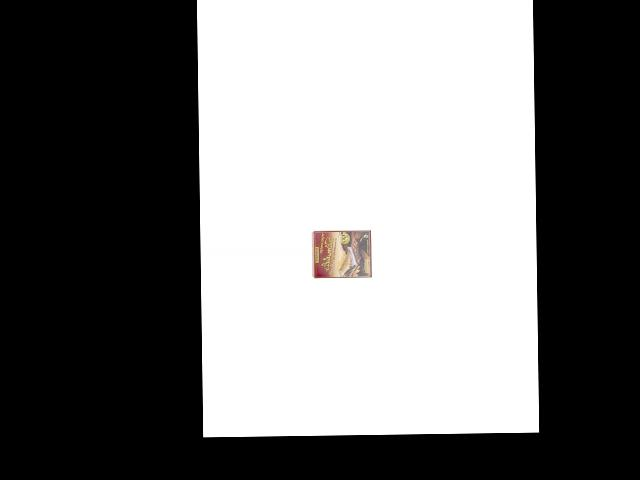chocolate: (311, 230, 372, 278)
